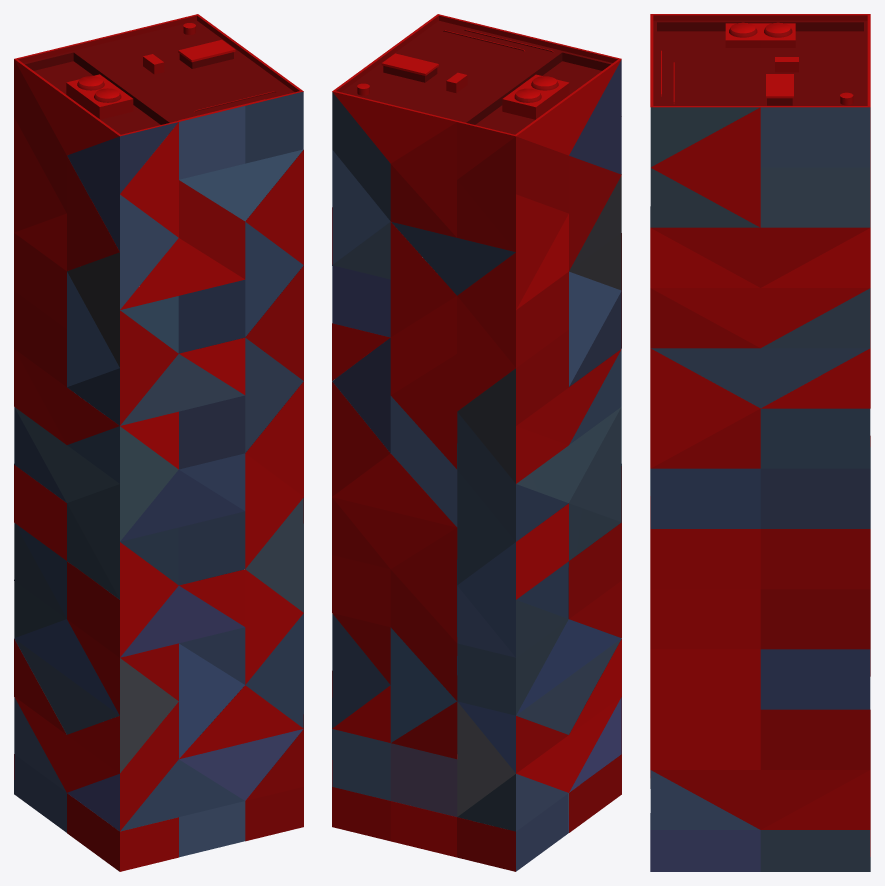
File: buildings-industrial-modernskyscraper_v2.fbx
3 views of the same model, side by side, from view 1: azimuth 30°, elevation 25°; view 2: azimuth 150°, elevation 25°; view 3: azimuth 270°, elevation 25° (orthographic). The views are drawn at different scales.
Parts seen in each view (by area): view 1: ModernSkyscraper_v2_windowRefl, ModernSkyscraper_v2_base; view 2: ModernSkyscraper_v2_base, ModernSkyscraper_v2_windowRefl; view 3: ModernSkyscraper_v2_base, ModernSkyscraper_v2_windowRefl.
Boxes of the visible parts, <box> form: ModernSkyscraper_v2_windowRefl: <box>14,91,303,857</box>; ModernSkyscraper_v2_base: <box>14,14,303,871</box>; ModernSkyscraper_v2_base: <box>332,14,621,871</box>; ModernSkyscraper_v2_windowRefl: <box>332,60,621,871</box>; ModernSkyscraper_v2_base: <box>650,14,870,856</box>; ModernSkyscraper_v2_windowRefl: <box>650,107,870,871</box>.
Size of the model in its own units: 21.04 by 80.86 by 20.96.
